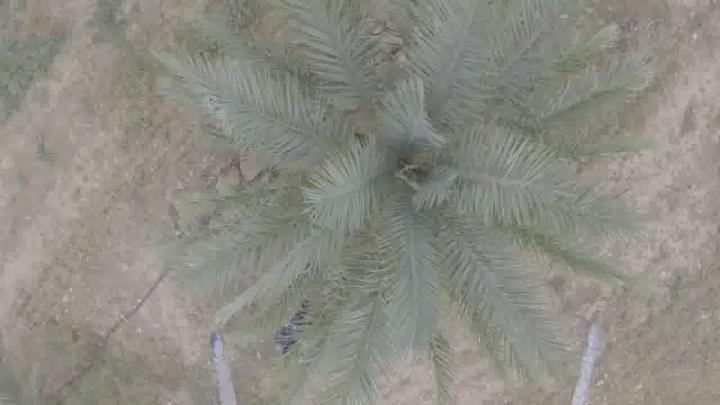Date-Palm-Crown: (269, 50, 549, 286)
